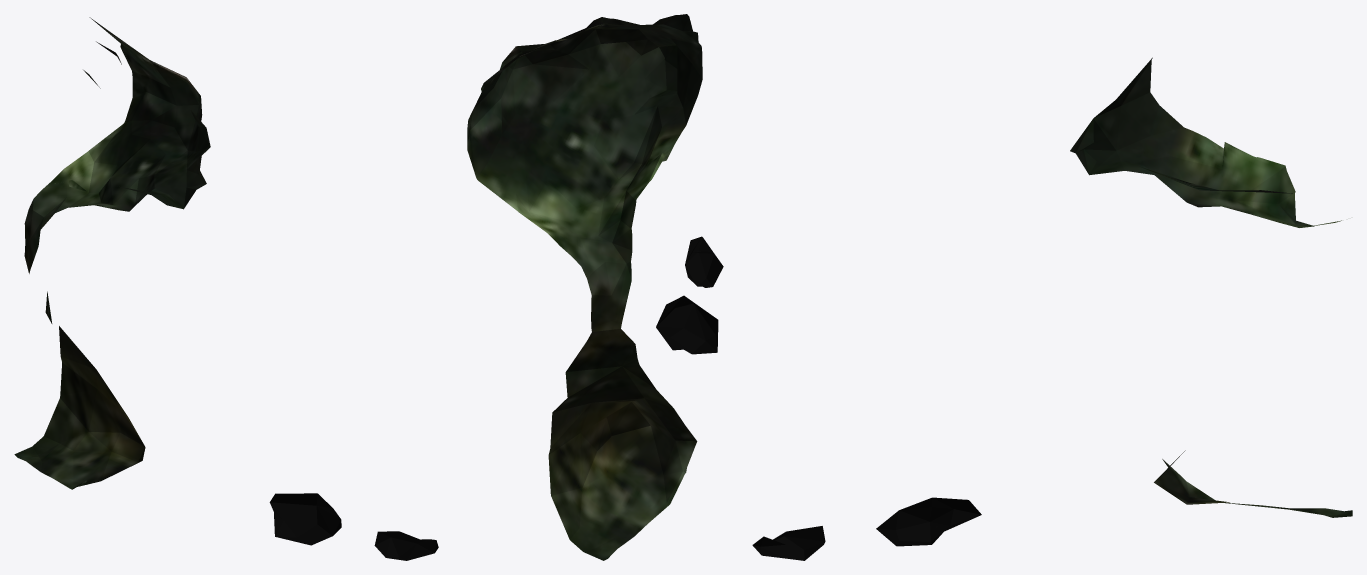
3 views of the same model, side by side, from view 1: azimuth 30°, elevation 25°; view 2: azimuth 150°, elevation 25°; view 3: azimuth 270°, elevation 25° (orthographic). The views are drawn at different scales.
Size of the model in its own units: 0.5546 by 1.29 by 1.42.
1 material, 1 textured.
